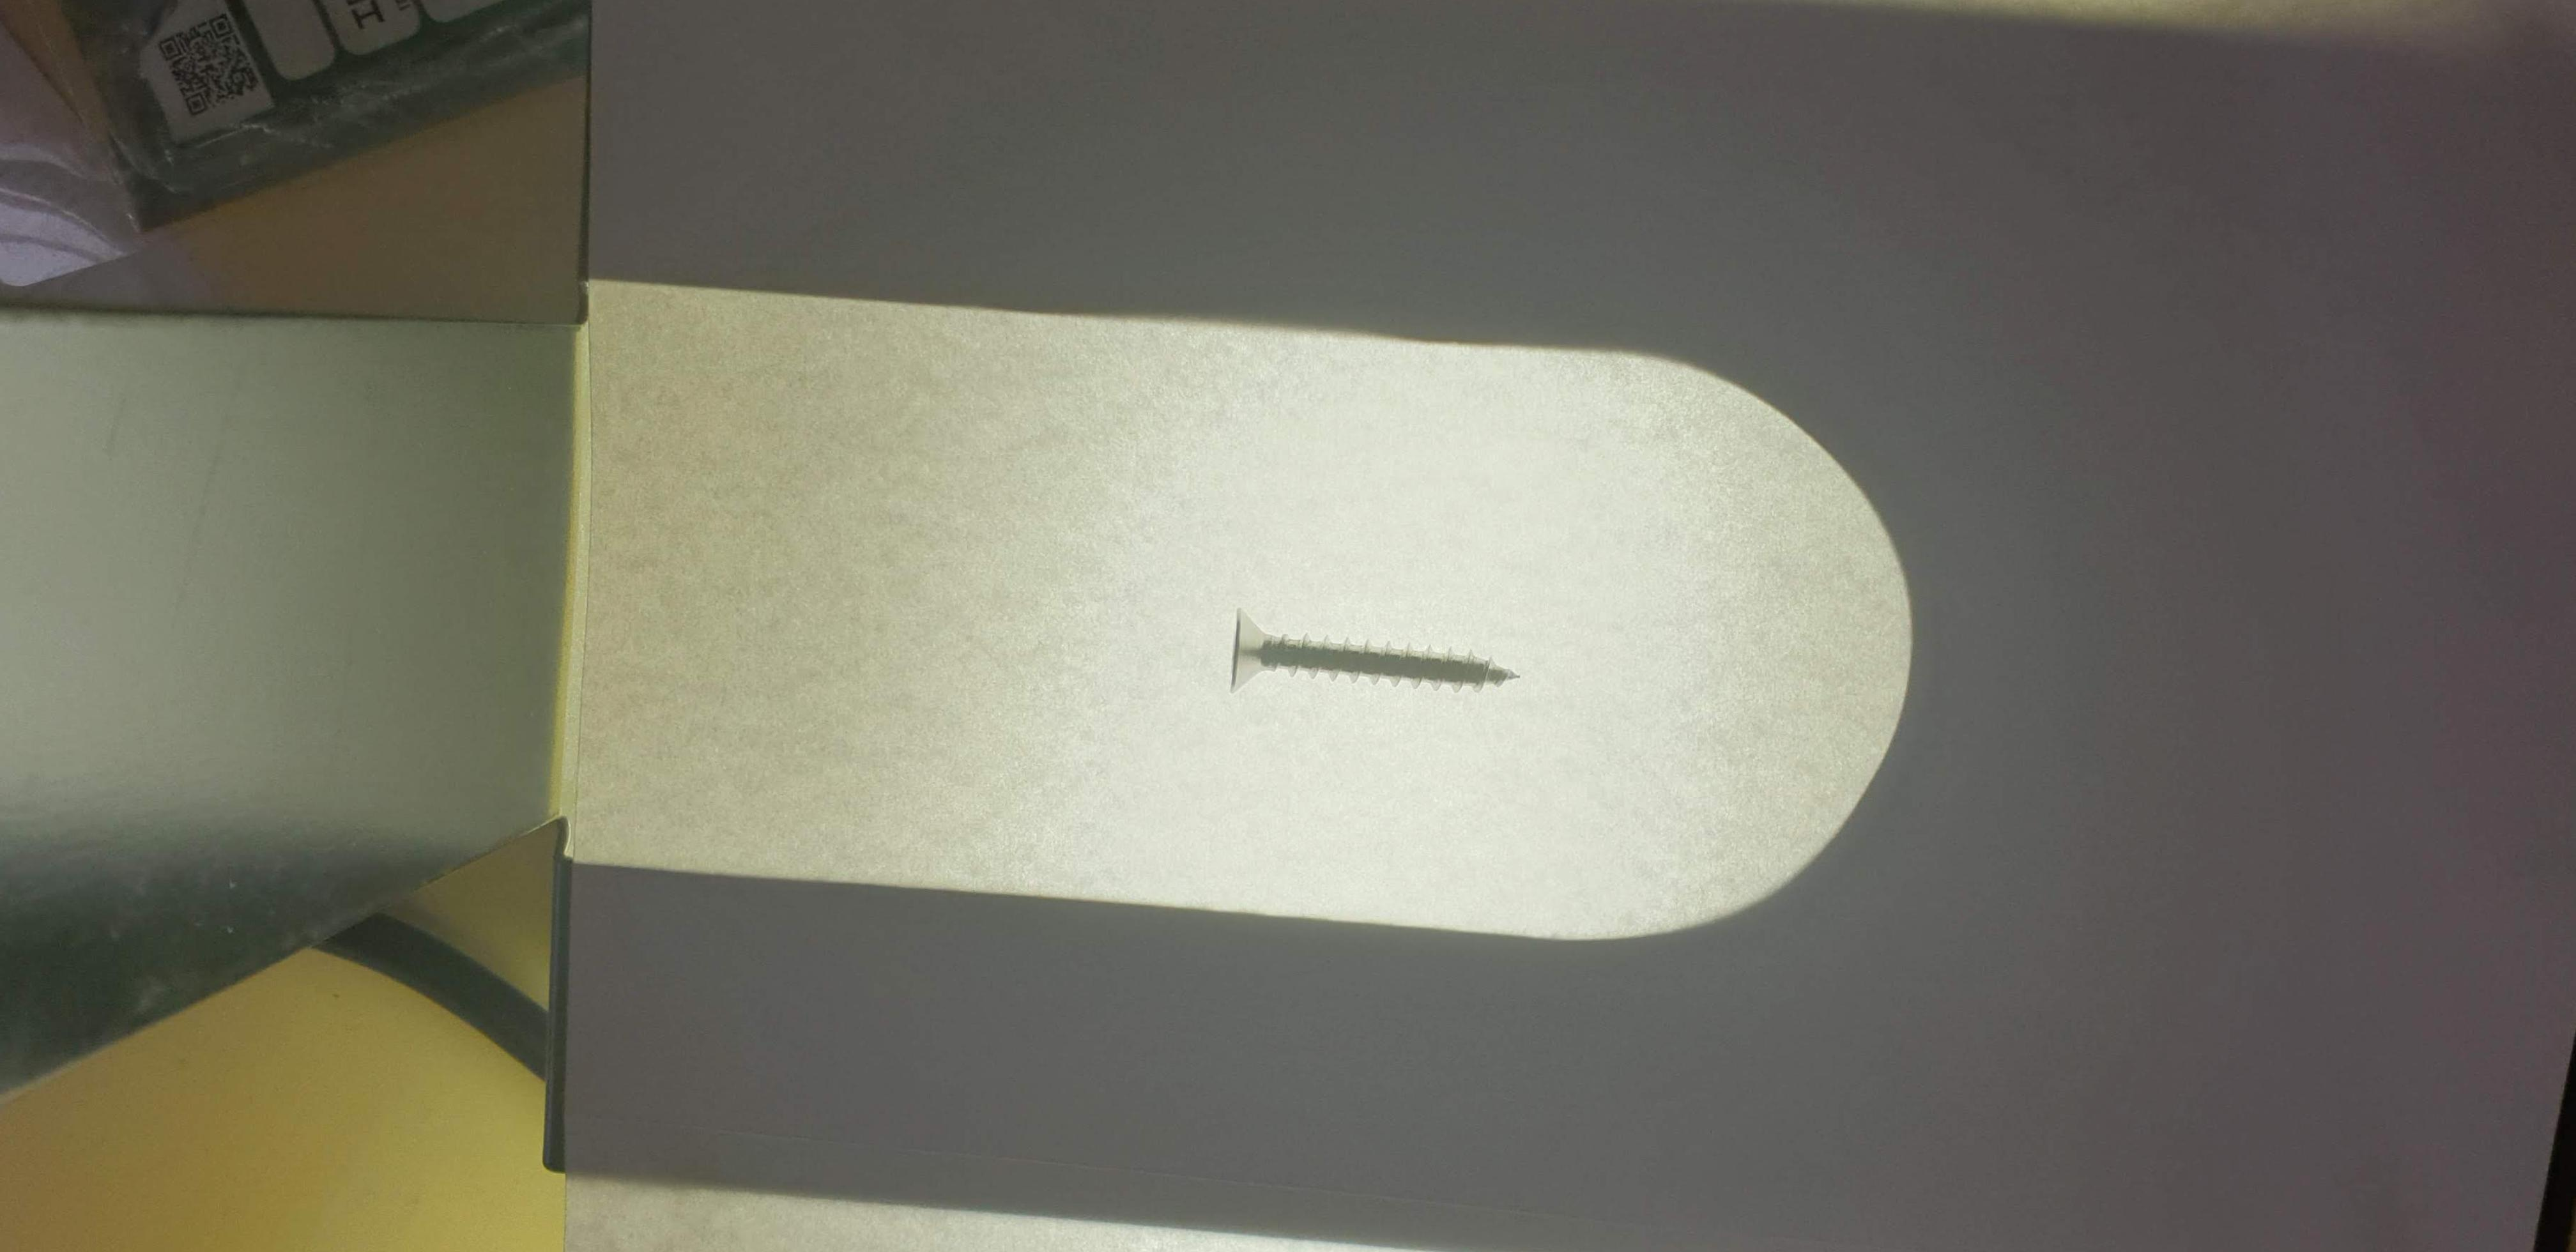S004: (1180, 572, 1549, 731)
